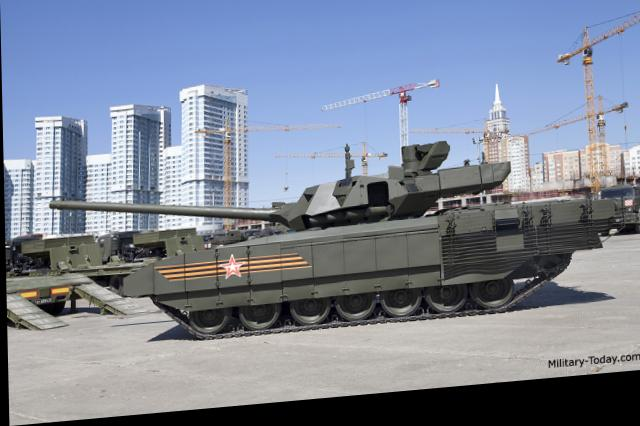tank: (107, 159, 597, 362)
